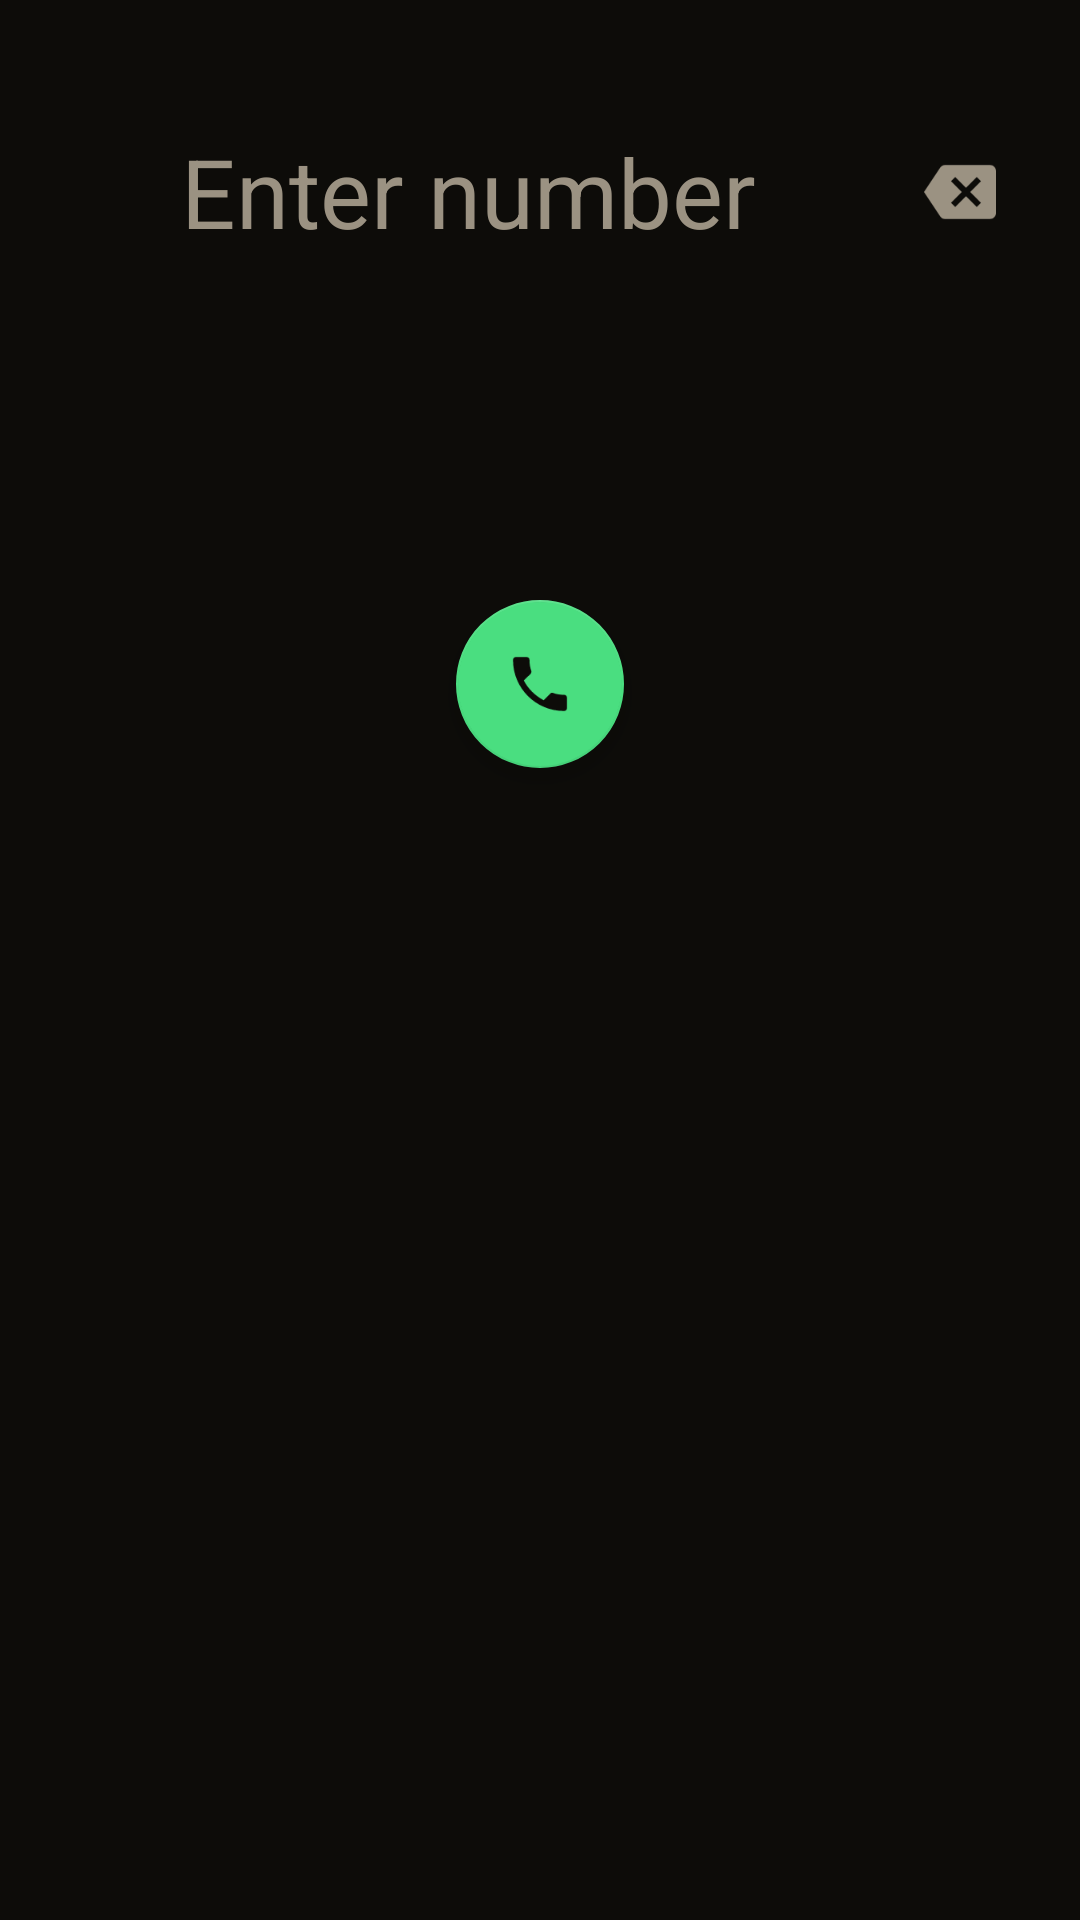

Icon bounding boxes for this 1080px x 1920px phone screenshot, format (x1, y1, x2, y2):
Backspace: (924, 165, 996, 219)
Call: (456, 600, 624, 768)
